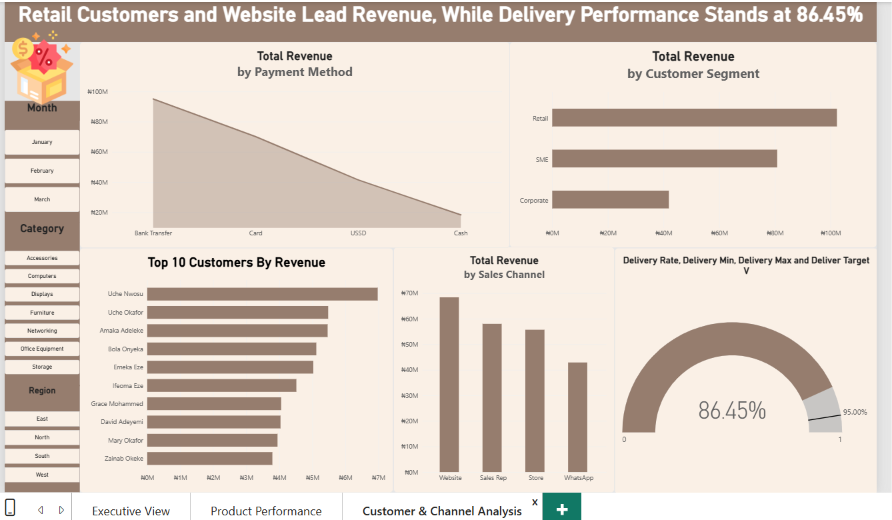

What the dashboard file says about the page in this screenshot:
{"tool":"powerbi","page":{"name":"Customer & Channel Analysis","canvas":[1920,1080],"ordinal":2},"visuals":[{"type":"barChart","fields":{"Category":["techpoint_retail customers.Customer Segment"],"Y":["techpoint_retail customers.Total Revenue"]},"box":[1111.9,88.1,808.1,452.7],"z":0},{"type":"barChart","title":"Top 10 Customers By Revenue","fields":{"Category":["techpoint_retail customers.Customer Name"],"Y":["techpoint_retail customers.Total Revenue"]},"box":[165.4,541,689.9,538.7],"z":1000},{"type":"clusteredColumnChart","fields":{"Category":["techpoint_retail sales.Sales Channel"],"Y":["techpoint_retail customers.Total Revenue"]},"box":[855.3,538.7,486.1,540.8],"z":2000},{"type":"areaChart","fields":{"Category":["techpoint_retail sales.Payment Method"],"Y":["techpoint_retail customers.Total Revenue"]},"box":[165.1,88,946.5,453.4],"z":3000},{"type":"gauge","fields":{"MaxValue":["techpoint_retail customers.Delivery Max"],"MinValue":["techpoint_retail customers.Delivery Min"],"TargetValue":["techpoint_retail customers.Deliver Target V"],"Y":["techpoint_retail sales.Delivery Rate"]},"box":[1342,541,578.8,541],"z":4000},{"type":"textbox","title":"Retail Customers and Website Lead Revenue, While Delivery Performance Stands at 86.45%","box":[0,0,1920,88.1],"z":5000},{"type":"advancedSlicerVisual","fields":{"Values":["techpoint_retail sales.Month"]},"box":[0,217.4,165.4,267],"z":6000},{"type":"advancedSlicerVisual","fields":{"Values":["techpoint_retail sales.Category"]},"box":[0,484.3,165.4,361.5],"z":7000},{"type":"advancedSlicerVisual","fields":{"Values":["techpoint_retail sales.Region"]},"box":[0,843.5,165.4,236.3],"z":8000},{"type":"image","box":[0,54.7,164.1,179.2],"z":9000}]}

Visuals, with their boxes on the page's 1920x1080 design canvas (x1, y1, x2, y2). These are canvas units, not pixel positions in the 892x520 screenshot, which may show the page scaled, cropped or inside an application window:
barChart - techpoint_retail customers.Customer Segment x techpoint_retail customers.Total Revenue: <box>1112,88,1920,541</box>
"Top 10 Customers By Revenue" barChart: <box>165,541,855,1080</box>
clusteredColumnChart - techpoint_retail sales.Sales Channel x techpoint_retail customers.Total Revenue: <box>855,539,1341,1080</box>
areaChart - techpoint_retail sales.Payment Method x techpoint_retail customers.Total Revenue: <box>165,88,1112,541</box>
gauge - techpoint_retail customers.Delivery Max x techpoint_retail customers.Delivery Min: <box>1342,541,1921,1082</box>
"Retail Customers and Website Lead Revenue, While Delivery Performance Stands at 86.45%" textbox: <box>0,0,1920,88</box>
advancedSlicerVisual - techpoint_retail sales.Month: <box>0,217,165,484</box>
advancedSlicerVisual - techpoint_retail sales.Category: <box>0,484,165,846</box>
advancedSlicerVisual - techpoint_retail sales.Region: <box>0,844,165,1080</box>
image: <box>0,55,164,234</box>
